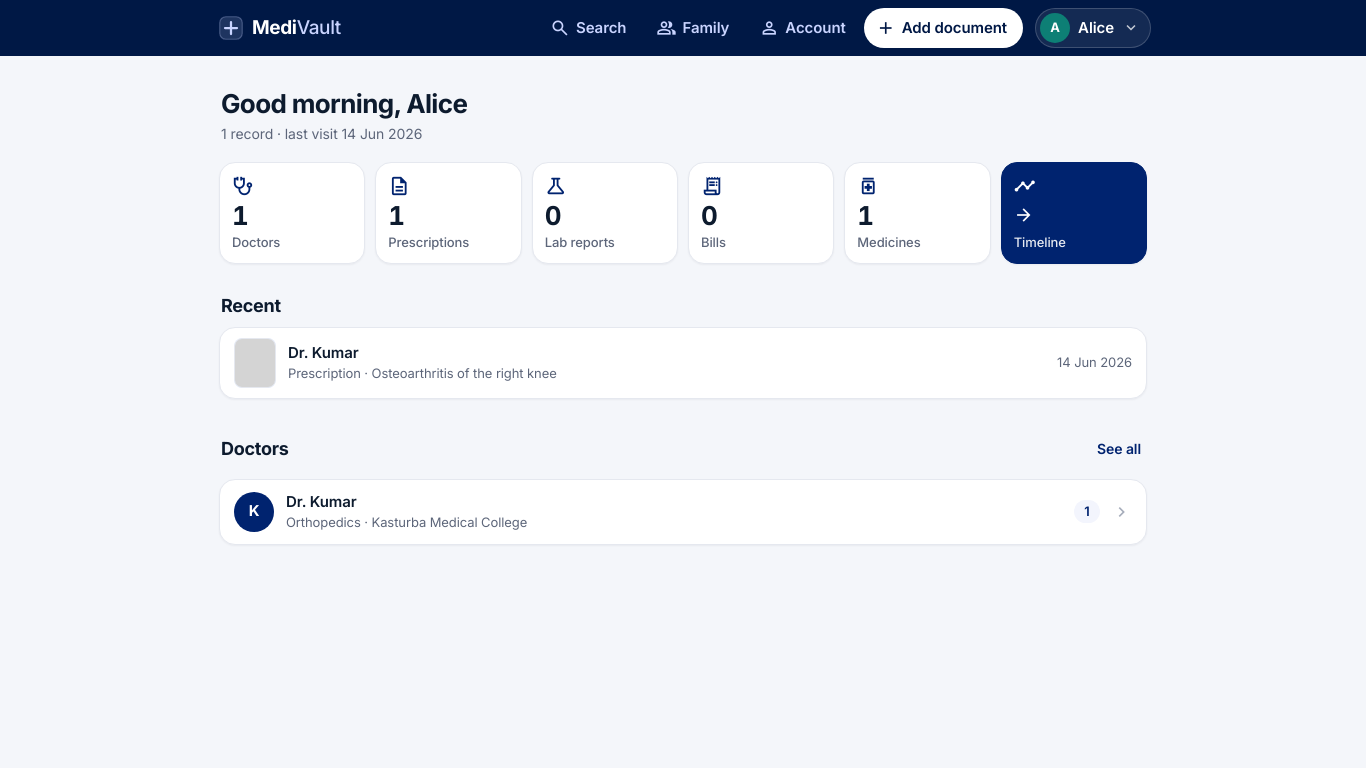
Scenario: the medicines are on the record itself
The image size is (1366, 768).
Click the button with aria-label "Prescription, Dr. Kumar, 14 Jun 2026". click: (255, 363)
box: x1=220 y1=328 x2=1146 y2=398
(page scrolled)
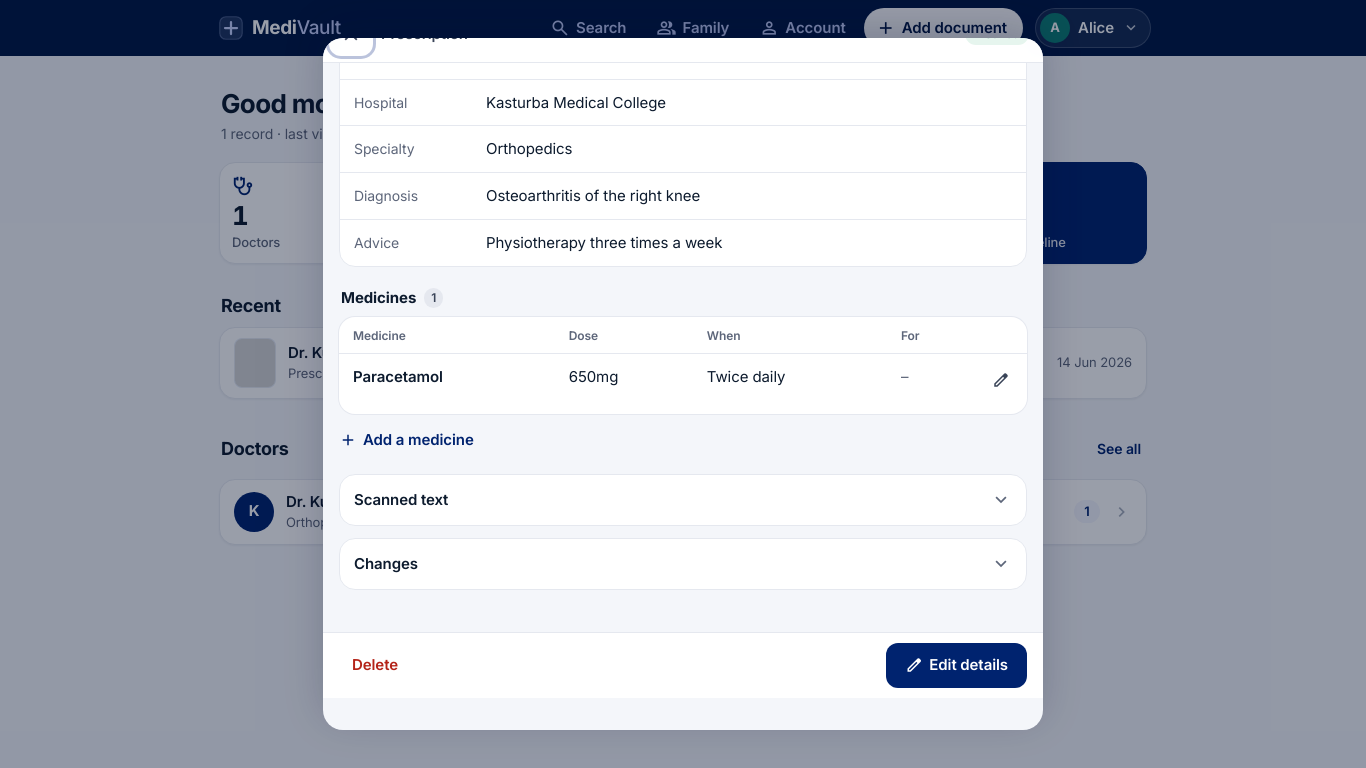
Check: the column heading "Paracetamol" is shown, box x1=339 y1=354 x2=555 y2=414
